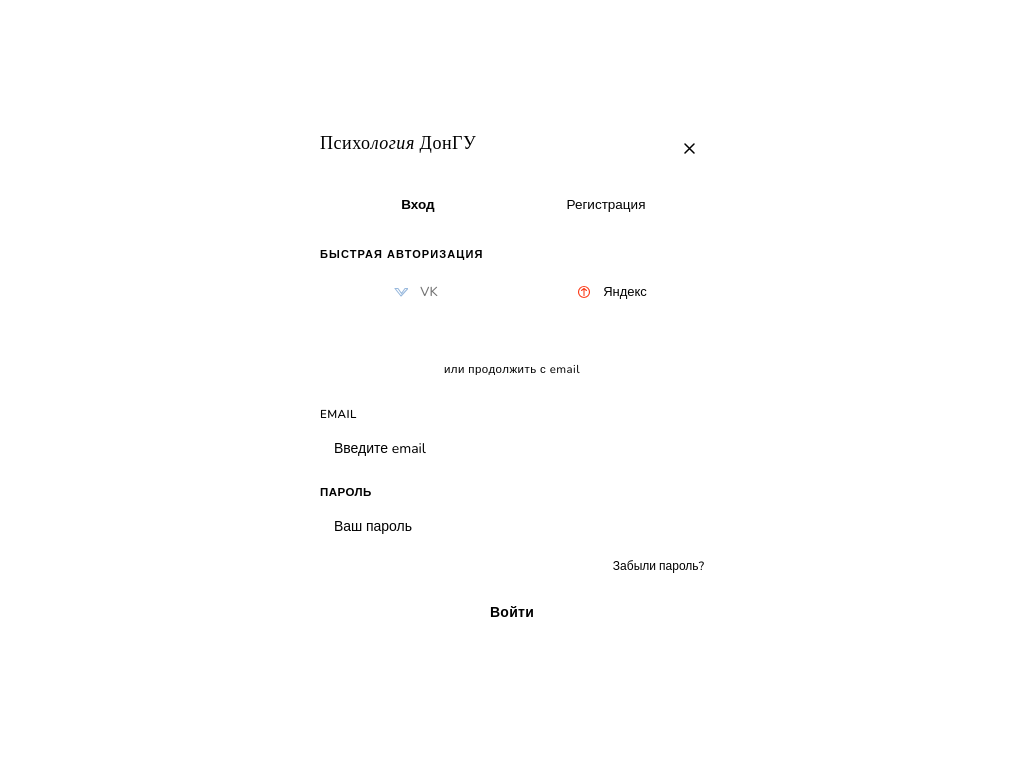
Test: юридические ссылки открываются в новой вкладке › обычная регистрация: на шаге кода ссылок нет (согласие принято на первом шаге)
Expected: the button with aria-label "Войти через Яндекс" is enabled, left=516, top=272, right=704, bottom=312
Click the tab "Регистрация": (606, 204) left=512, top=186, right=700, bottom=222
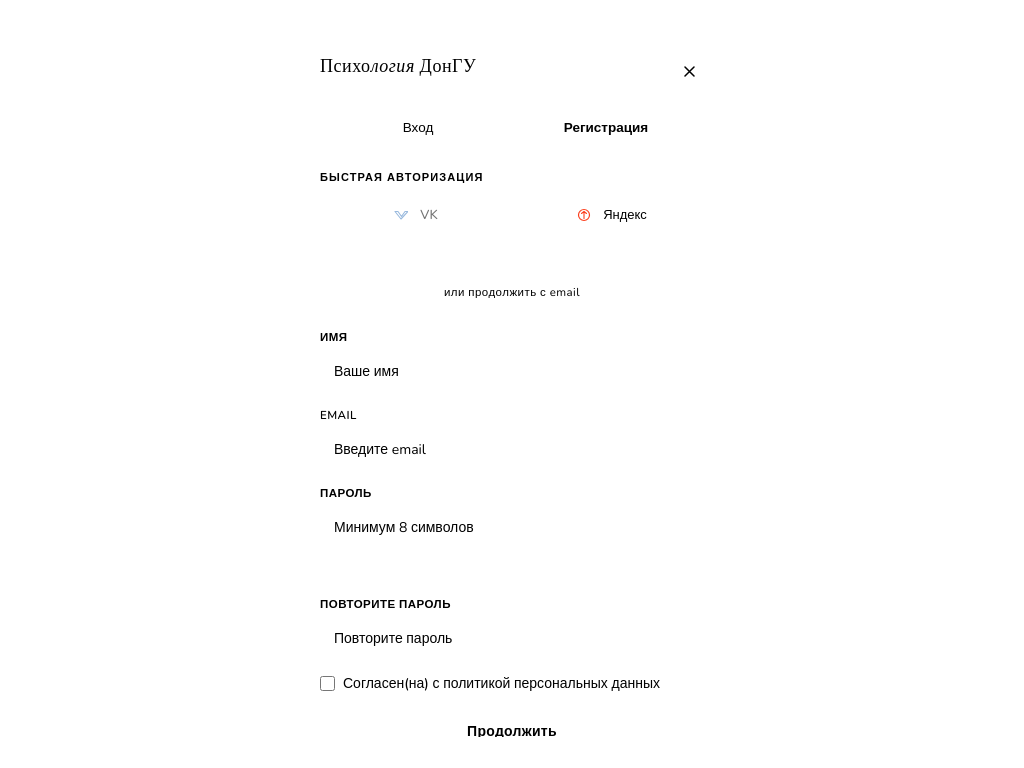
In the field labelled "Имя": (512, 372) left=320, top=350, right=704, bottom=394, type "Иван Студентов"
In the field labelled "Email": (512, 450) left=320, top=428, right=704, bottom=472, type "student@donnu.ru"
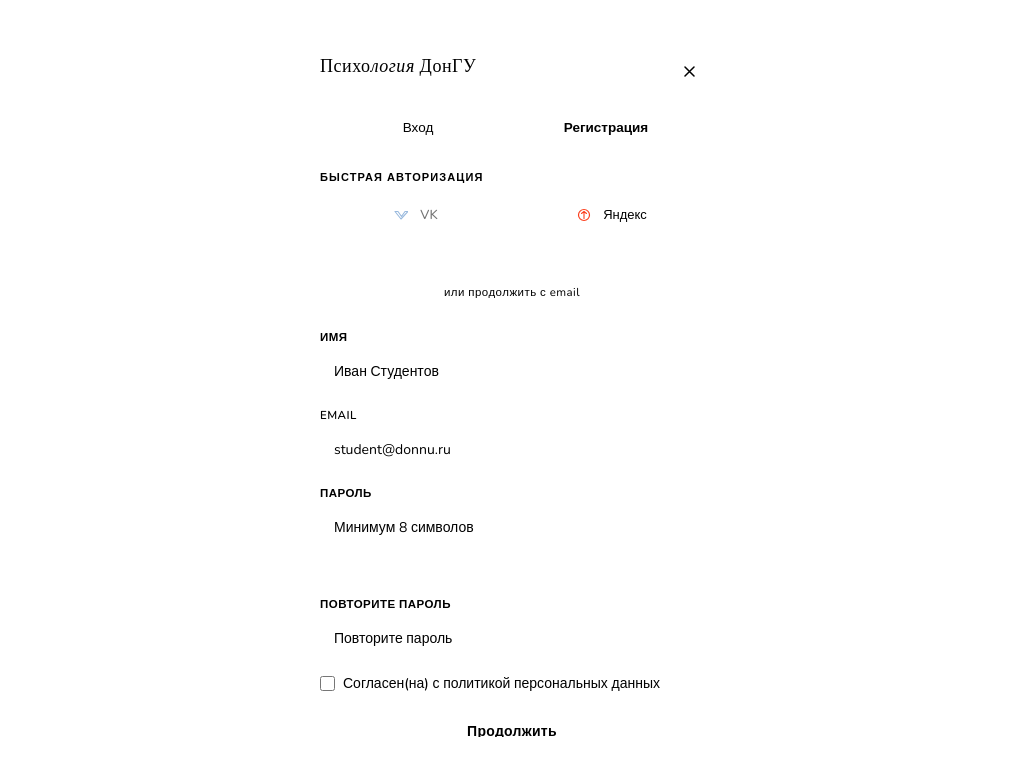
In the password field labelled "Пароль": (512, 528) left=320, top=506, right=704, bottom=550, type "SecurePass42!"
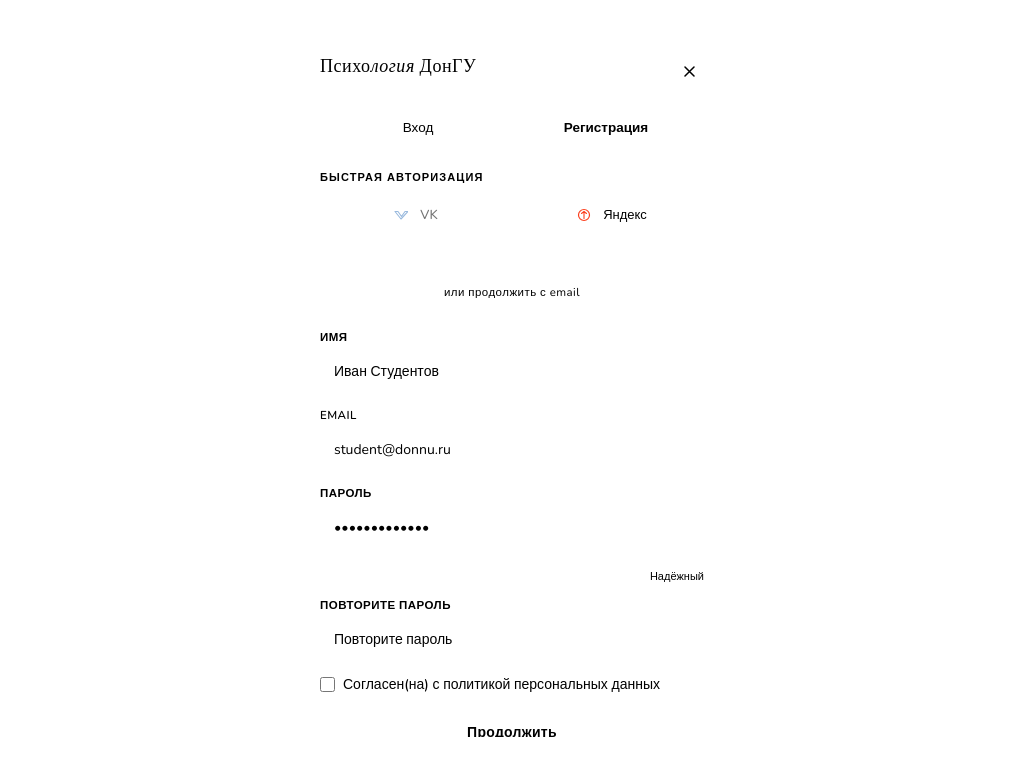
In the password field labelled "Повторите пароль": (512, 640) left=320, top=618, right=704, bottom=662, type "SecurePass42!"
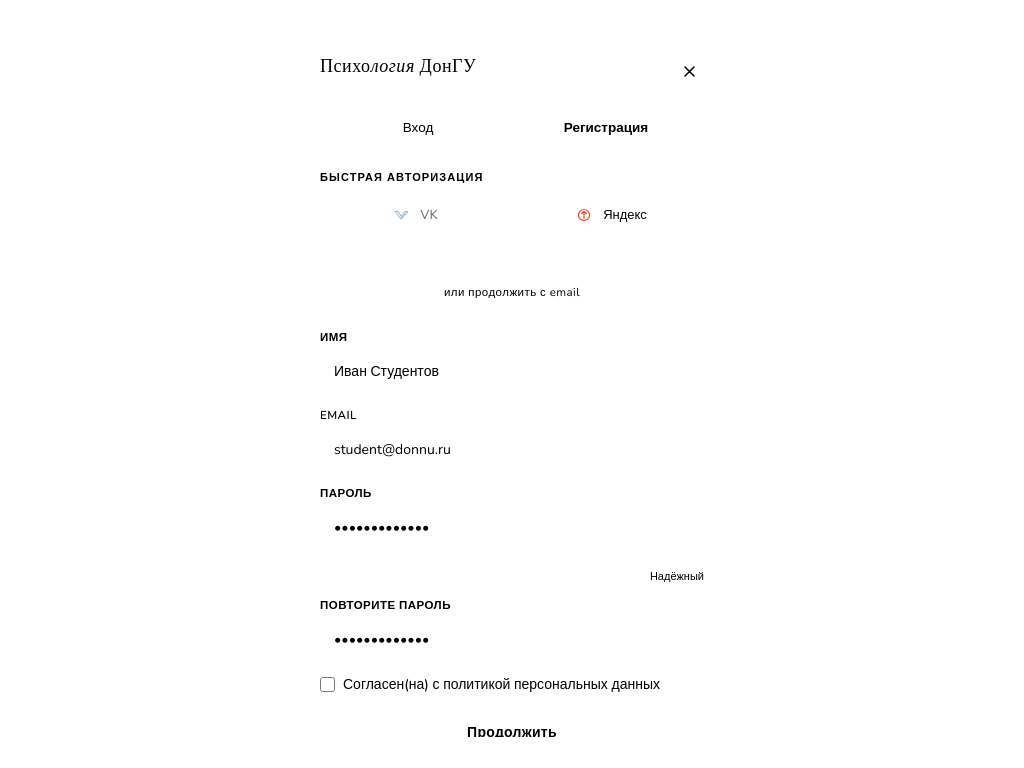
Click the checkbox: (328, 684) left=320, top=677, right=335, bottom=692
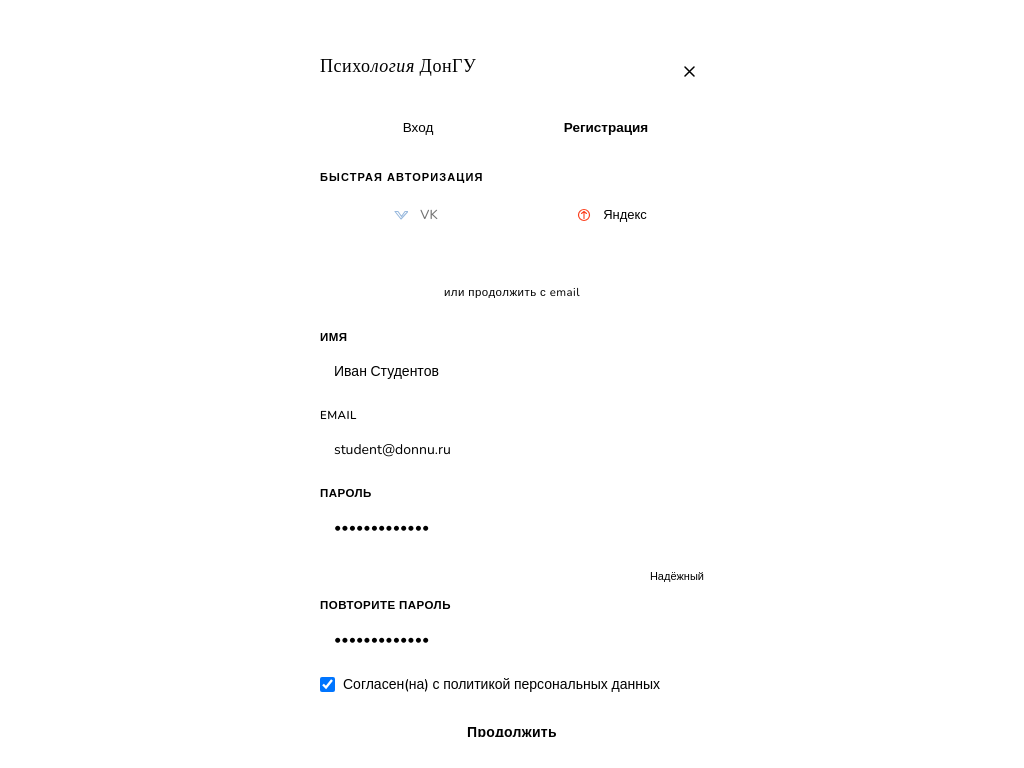
Click the button "Продолжить": (512, 732) left=320, top=710, right=704, bottom=755
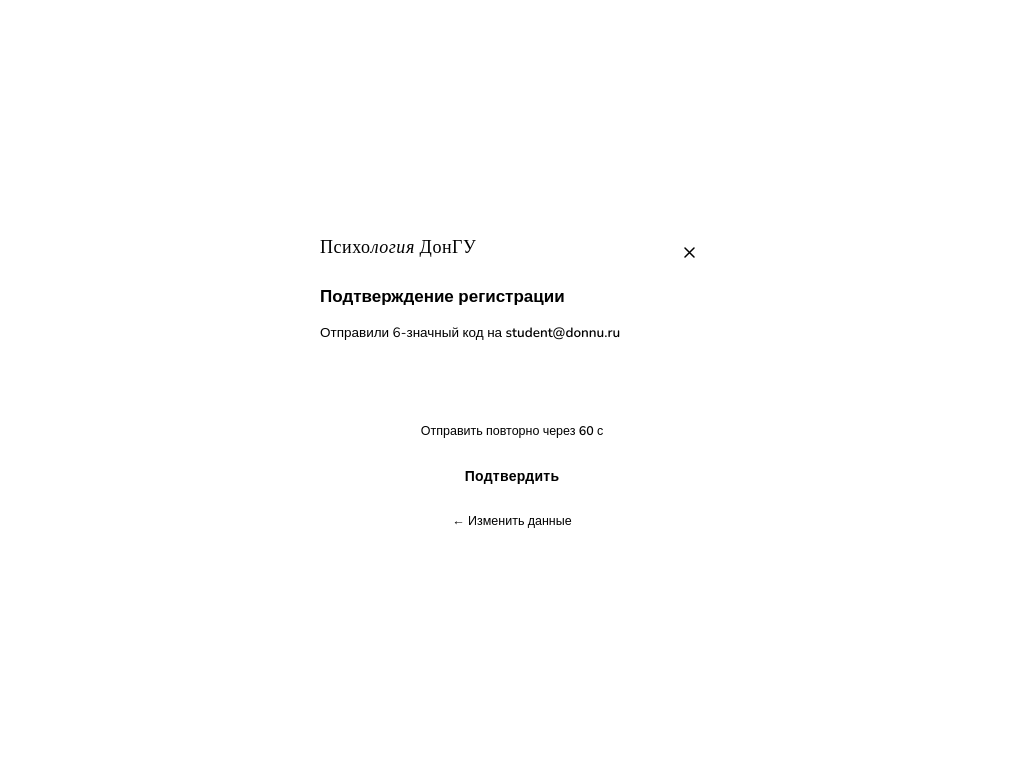
Result: the link "политикой персональных данных" is gone
